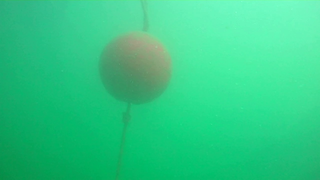bubble: (299, 84, 303, 88), (258, 123, 262, 127), (179, 122, 183, 126), (232, 47, 236, 51), (227, 67, 231, 71), (239, 106, 243, 109), (60, 69, 63, 72), (235, 82, 238, 85), (295, 80, 298, 83), (215, 114, 218, 117), (264, 166, 267, 169), (274, 159, 277, 162), (210, 143, 213, 146), (209, 61, 212, 64), (210, 123, 212, 125), (235, 11, 237, 13)
buoy: (98, 30, 172, 105)
